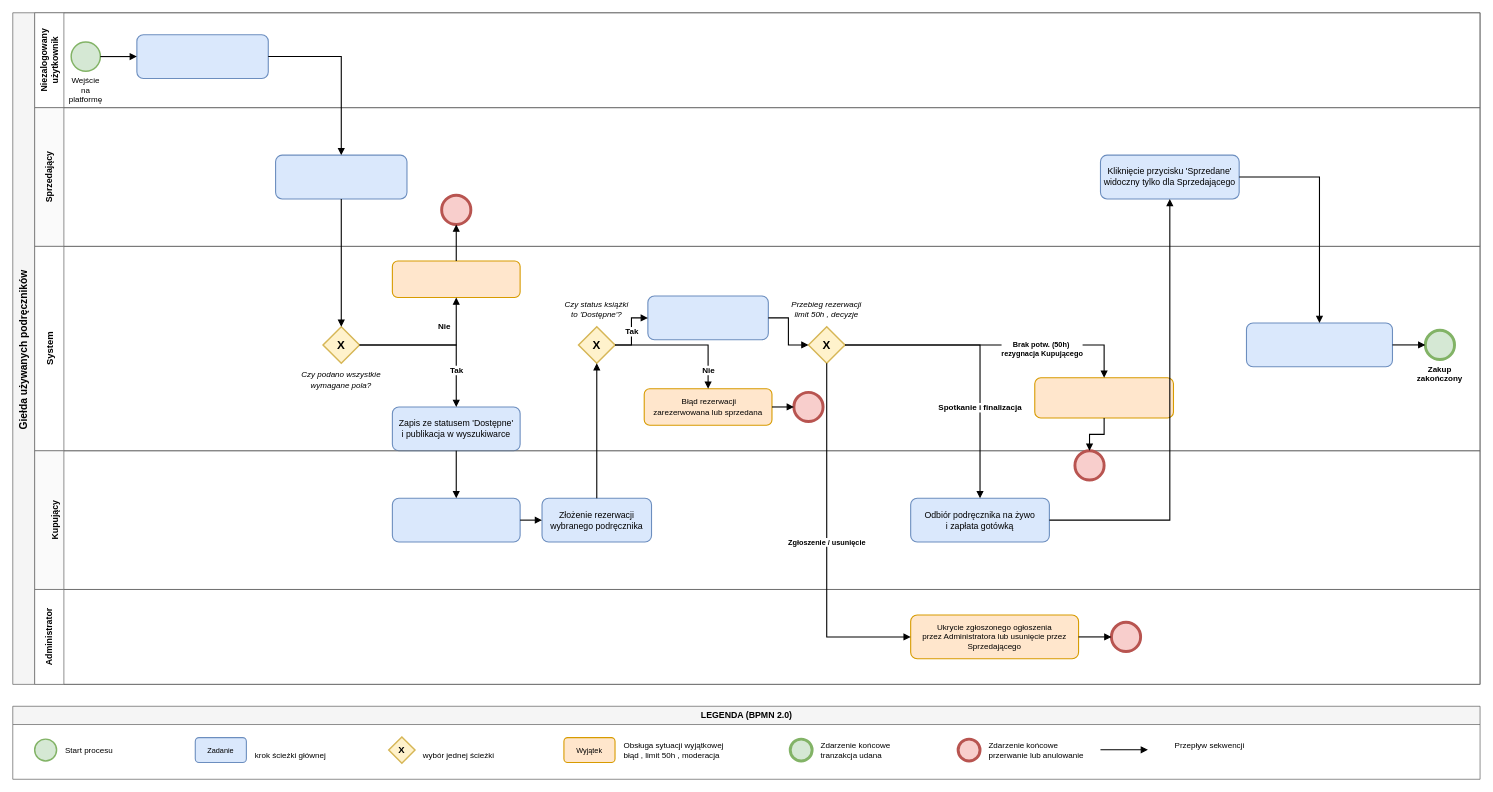
This 1493x792 diagram has some shape labels left out. The centre of each missing label's shape, as x and y in pixels:
"Brak rezerwacji" belongs at [808,407].
"Błąd walidacji" belongs at [456,209].
"Dodanie ogłoszenia (tytuł, autor, przedmiot, stan książki, cena)" belongs at [341,176].
"Komunikat o brakach (ogłoszenie nie jest zapisywane)" belongs at [455,279].
"Oferta znów 'Dostępne'" belongs at [1089,465].
"Ogłoszenie ukryte/usunięte" belongs at [1126,636].
"Rejestracja (mail uczelniany, hasło ≥ 8 znaków) i logowanie" belongs at [202,56].
"Upływ 50h lub rezygnacja Kupującego → powrót do 'Dostępne'" belongs at [1104,397].
"Wyszukanie podręcznika (tytuł, autor lub przedmiot)" belongs at [455,519].
"Zmiana statusu na 'Sprzedane', usunięcie z wyszukiwarki, zapis w historii" belongs at [1319,344].
"Zmiana statusu oferty na 'Zarezerwowane'" belongs at [708,317].
